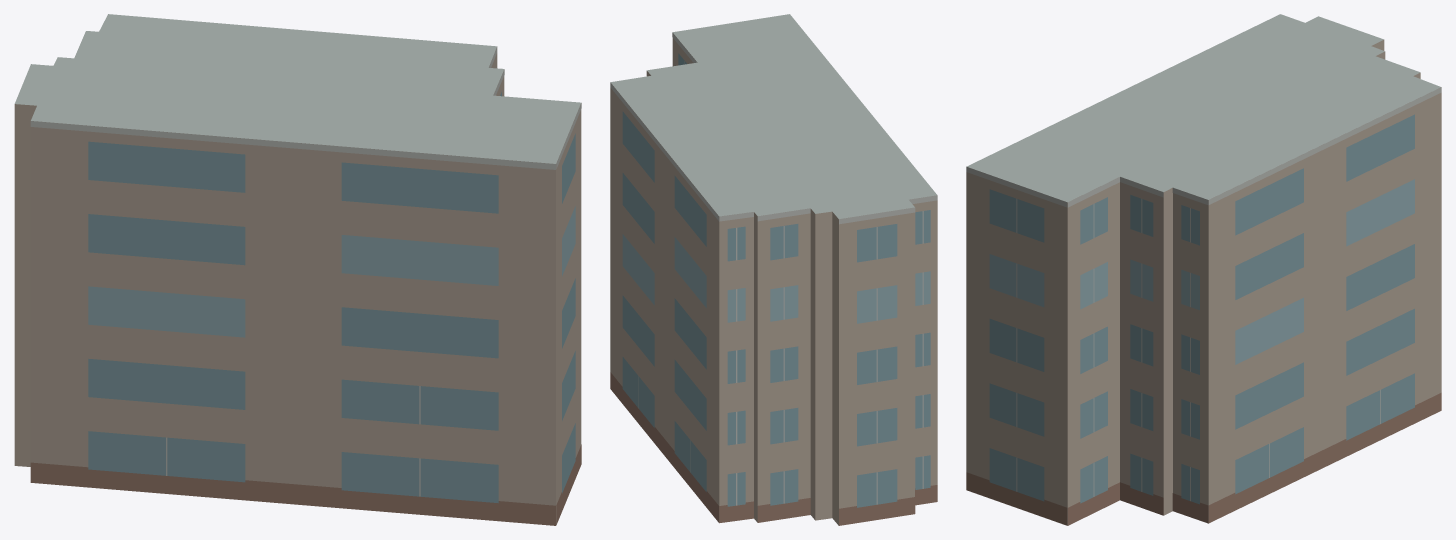
Rendered from survey-upis-32663912.glb.
3 views of the same model, side by side, from view 1: azimuth 30°, elevation 25°; view 2: azimuth 150°, elevation 25°; view 3: azimuth 270°, elevation 25° (orthographic). The views are drawn at different scales.
Parts seen in each view (by area): view 1: survey-upis-32663912.tmp; view 2: survey-upis-32663912.tmp; view 3: survey-upis-32663912.tmp.
Boxes of the visible parts, x1,y1,x2,y2 form: survey-upis-32663912.tmp: [14, 14, 581, 525]; survey-upis-32663912.tmp: [610, 14, 937, 525]; survey-upis-32663912.tmp: [966, 14, 1441, 525].
Bounding box in the file's own units: 18.36 × 14.7 × 19.57.
